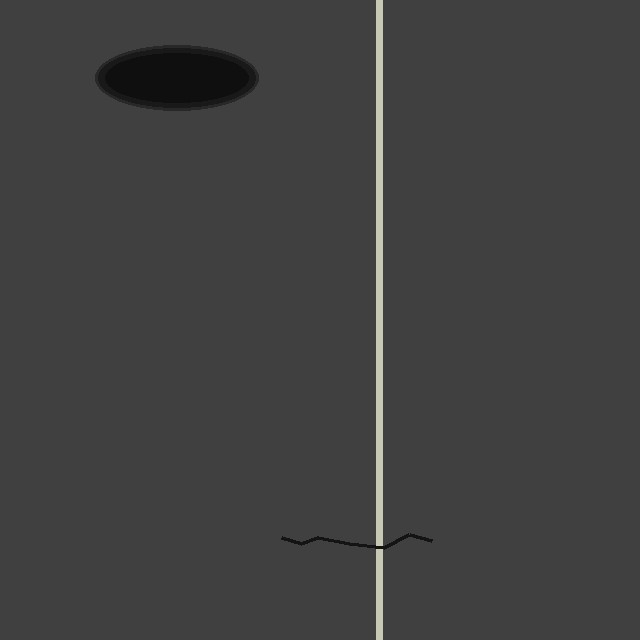crack: (281, 504, 427, 571)
pothole: (95, 45, 258, 110)
